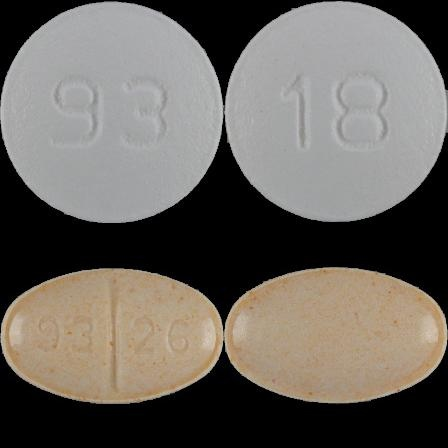0093-0018: (0, 0, 224, 224)
